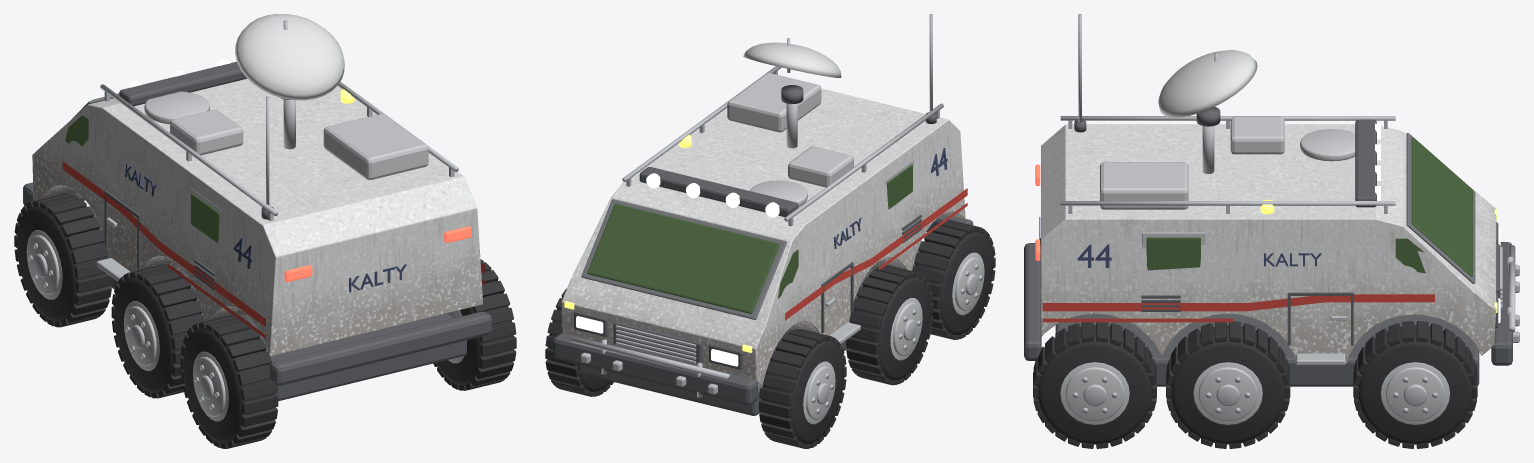
File: survey_rover.glb
3 views of the same model, side by side, from view 1: azimuth 30°, elevation 25°; view 2: azimuth 150°, elevation 25°; view 3: azimuth 270°, elevation 25° (orthographic). The views are drawn at different scales.
Parts seen in each view (by area): view 1: Hull, DishBowl, RearBumper, Locker, Skirt, WheelRLTyre, WheelFLTyre, WheelMLTyre, LockerB, LightBar, Flash-1, WheelRRTyre (+11 smaller); view 2: Hull, Windscreen, FrontBumper, Locker, WheelFLTyre, WheelMLTyre, WheelRLTyre, WindscreenFrame, LightBar, DishBowl, Skirt, LockerB (+12 smaller); view 3: Hull, WheelRRTyre, WheelFRTyre, WheelMRTyre, Windscreen, Skirt, DishBowl, Locker, Flash1, LockerB, WheelRRDish, WheelMRDish (+17 smaller).
Boxes of the visible parts, x1,y1,x2,y2 form: Hull: (32, 78, 482, 356); DishBowl: (235, 14, 344, 100); RearBumper: (269, 311, 491, 385); Locker: (323, 113, 428, 179); Skirt: (89, 206, 466, 401); WheelRLTyre: (183, 328, 275, 443); WheelFLTyre: (17, 206, 107, 321); WheelMLTyre: (114, 277, 201, 392); LockerB: (170, 109, 243, 155); LightBar: (119, 61, 246, 106); Flash-1: (62, 161, 265, 327); WheelRRTyre: (436, 281, 513, 385); Hull: (561, 88, 965, 386); Windscreen: (587, 204, 779, 313); FrontBumper: (553, 333, 757, 404); Locker: (727, 73, 821, 132); WheelFLTyre: (761, 340, 844, 443); WheelMLTyre: (850, 277, 931, 380); WheelRLTyre: (915, 231, 993, 334); WindscreenFrame: (581, 199, 786, 319); LightBar: (639, 167, 798, 217); DishBowl: (743, 42, 841, 77); Skirt: (578, 241, 921, 415); LockerB: (788, 146, 853, 187); Hull: (1041, 124, 1496, 363); WheelRRTyre: (1036, 325, 1153, 444); WheelFRTyre: (1357, 325, 1473, 444); WheelMRTyre: (1170, 325, 1286, 444); Windscreen: (1411, 137, 1472, 276); Skirt: (1055, 314, 1479, 386); DishBowl: (1158, 50, 1257, 117); Locker: (1100, 162, 1188, 209); Flash1: (1042, 294, 1434, 311); LockerB: (1230, 116, 1284, 154); WheelRRDish: (1065, 367, 1124, 421); WheelMRDish: (1198, 367, 1257, 421).
Bounding box in the file's own units: 3.24 × 3.71 × 5.03.
Materials: 14 (1 with a texture image).
